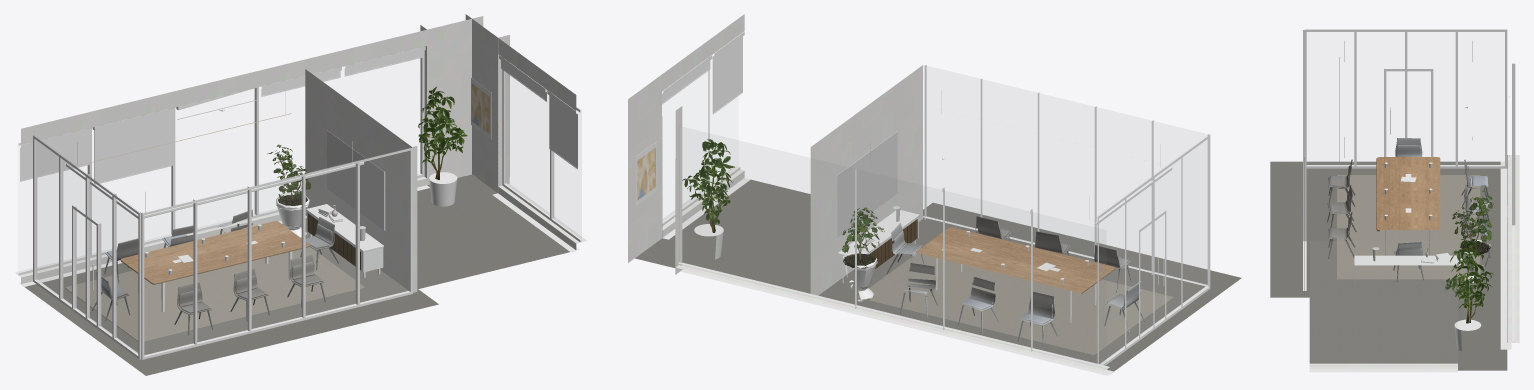
Rendered from z-open_n-lite.full.3ca70f0e.glb.
3 views of the same model, side by side, from view 1: azimuth 30°, elevation 25°; view 2: azimuth 150°, elevation 25°; view 3: azimuth 270°, elevation 25° (orthographic). The views are drawn at different scales.
Visible parts, largest first — view 1: open_n_carpet, open_n_plaster, open_n_satin, open_n_glass, open_n_oak, open_n_fx, open_n_gloss, open_n_veg_atlas, open_n_metal_lit, open_n_art, open_n_proxy_cab; view 2: open_n_carpet, open_n_plaster, open_n_glass, open_n_satin, open_n_oak, open_n_fx, open_n_gloss, open_n_veg_atlas, open_n_metal_lit, open_n_art, open_n_proxy_cab; view 3: open_n_carpet, open_n_satin, open_n_oak, open_n_veg_atlas, open_n_fx, open_n_plaster, open_n_metal_lit.
Boxes of the visible parts, box(x1,y1,x2,y2) form: open_n_carpet: box(22, 174, 575, 375); open_n_plaster: box(15, 14, 586, 292); open_n_satin: box(17, 46, 582, 359); open_n_glass: box(37, 168, 304, 267); open_n_oak: box(120, 221, 309, 284); open_n_fx: box(92, 209, 338, 335); open_n_gloss: box(145, 130, 385, 274); open_n_veg_atlas: box(267, 86, 467, 205); open_n_metal_lit: box(24, 78, 570, 311); open_n_art: box(471, 83, 489, 133); open_n_proxy_cab: box(307, 213, 360, 269); open_n_carpet: box(635, 179, 1241, 373); open_n_plaster: box(628, 14, 1109, 371); open_n_glass: box(682, 127, 1207, 364); open_n_satin: box(662, 31, 1210, 375); open_n_oak: box(916, 227, 1114, 293); open_n_fx: box(886, 216, 1145, 347); open_n_gloss: box(837, 131, 1088, 283); open_n_veg_atlas: box(682, 139, 884, 268); open_n_metal_lit: box(635, 141, 1164, 371); open_n_art: box(637, 147, 655, 200); open_n_proxy_cab: box(862, 219, 917, 269); open_n_carpet: box(1270, 161, 1507, 370); open_n_satin: box(1303, 29, 1515, 372); open_n_oak: box(1376, 157, 1440, 231); open_n_veg_atlas: box(1445, 190, 1494, 323); open_n_fx: box(1327, 138, 1490, 281); open_n_plaster: box(1304, 155, 1519, 368); open_n_metal_lit: box(1385, 107, 1501, 349).
Size of the model in its own units: 10.25 by 3.3 by 5.05.
Materials: 13 (7 with a texture image).
